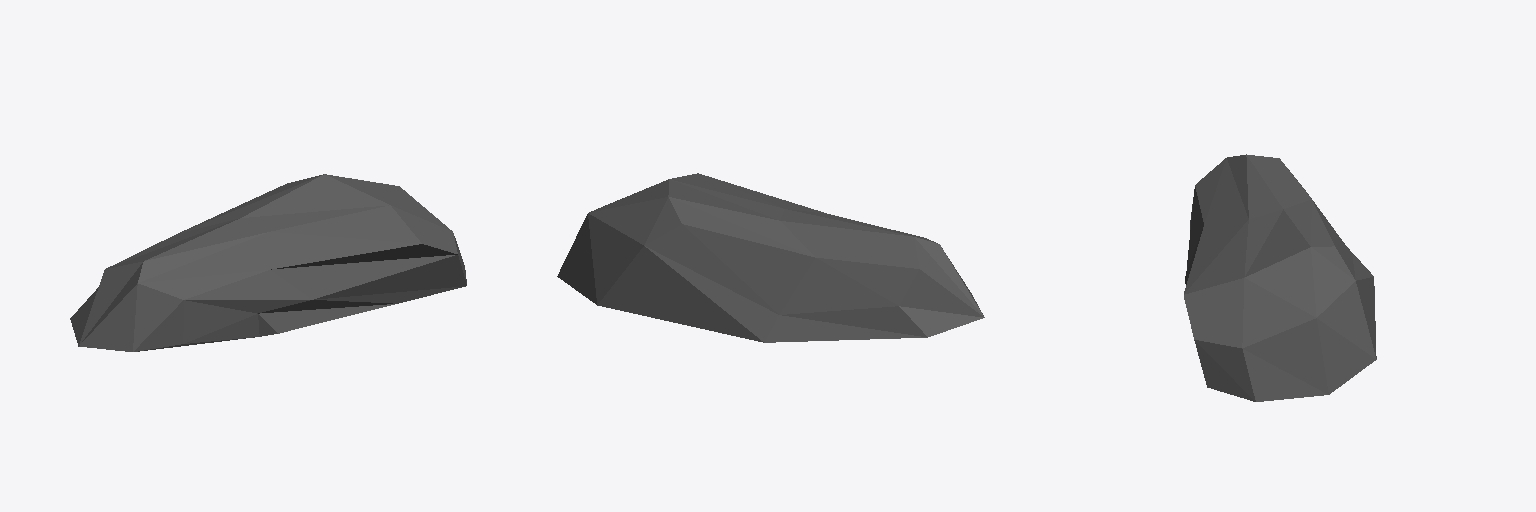
Rendered from vegetation2.obj.
3 renders of one model, left to right at view 1: azimuth 30°, elevation 25°; view 2: azimuth 150°, elevation 25°; view 3: azimuth 270°, elevation 25°, orthographic.
Visible parts, largest first — view 1: vegetation4; view 2: vegetation4; view 3: vegetation4.
Part boxes in pixels (bbox=[...]): vegetation4: bbox=[70, 174, 466, 351]; vegetation4: bbox=[557, 173, 984, 342]; vegetation4: bbox=[1184, 154, 1376, 401].
Size of the model in its own units: 85.79 by 20.8 by 36.4.